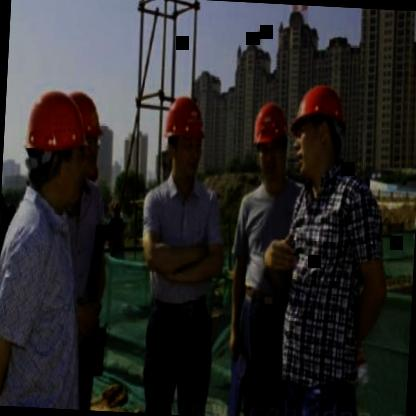helmet: (21, 86, 89, 209), (291, 80, 349, 182), (160, 92, 208, 188), (247, 96, 293, 188), (72, 92, 104, 186)
